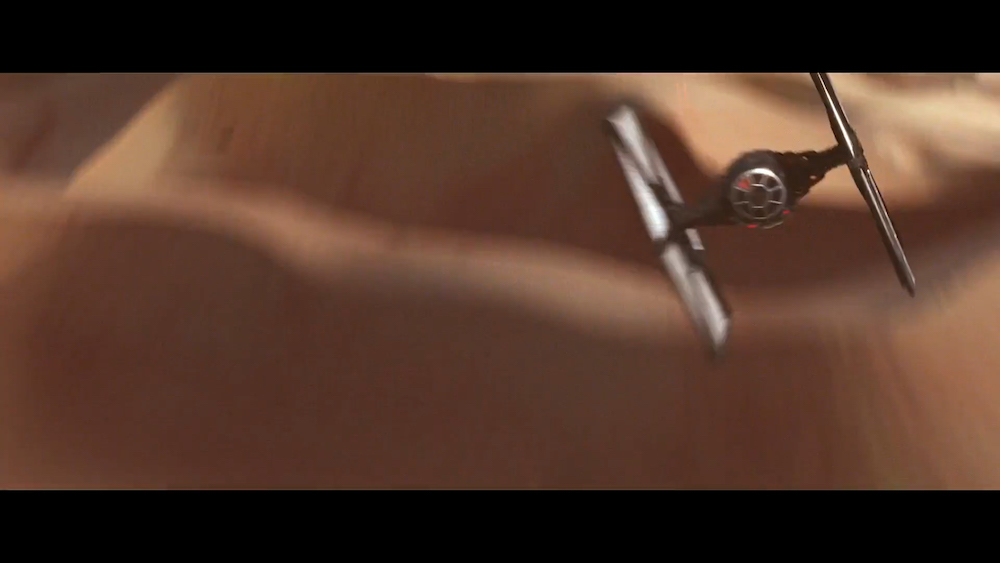Tie Fighter: (601, 73, 918, 371)
